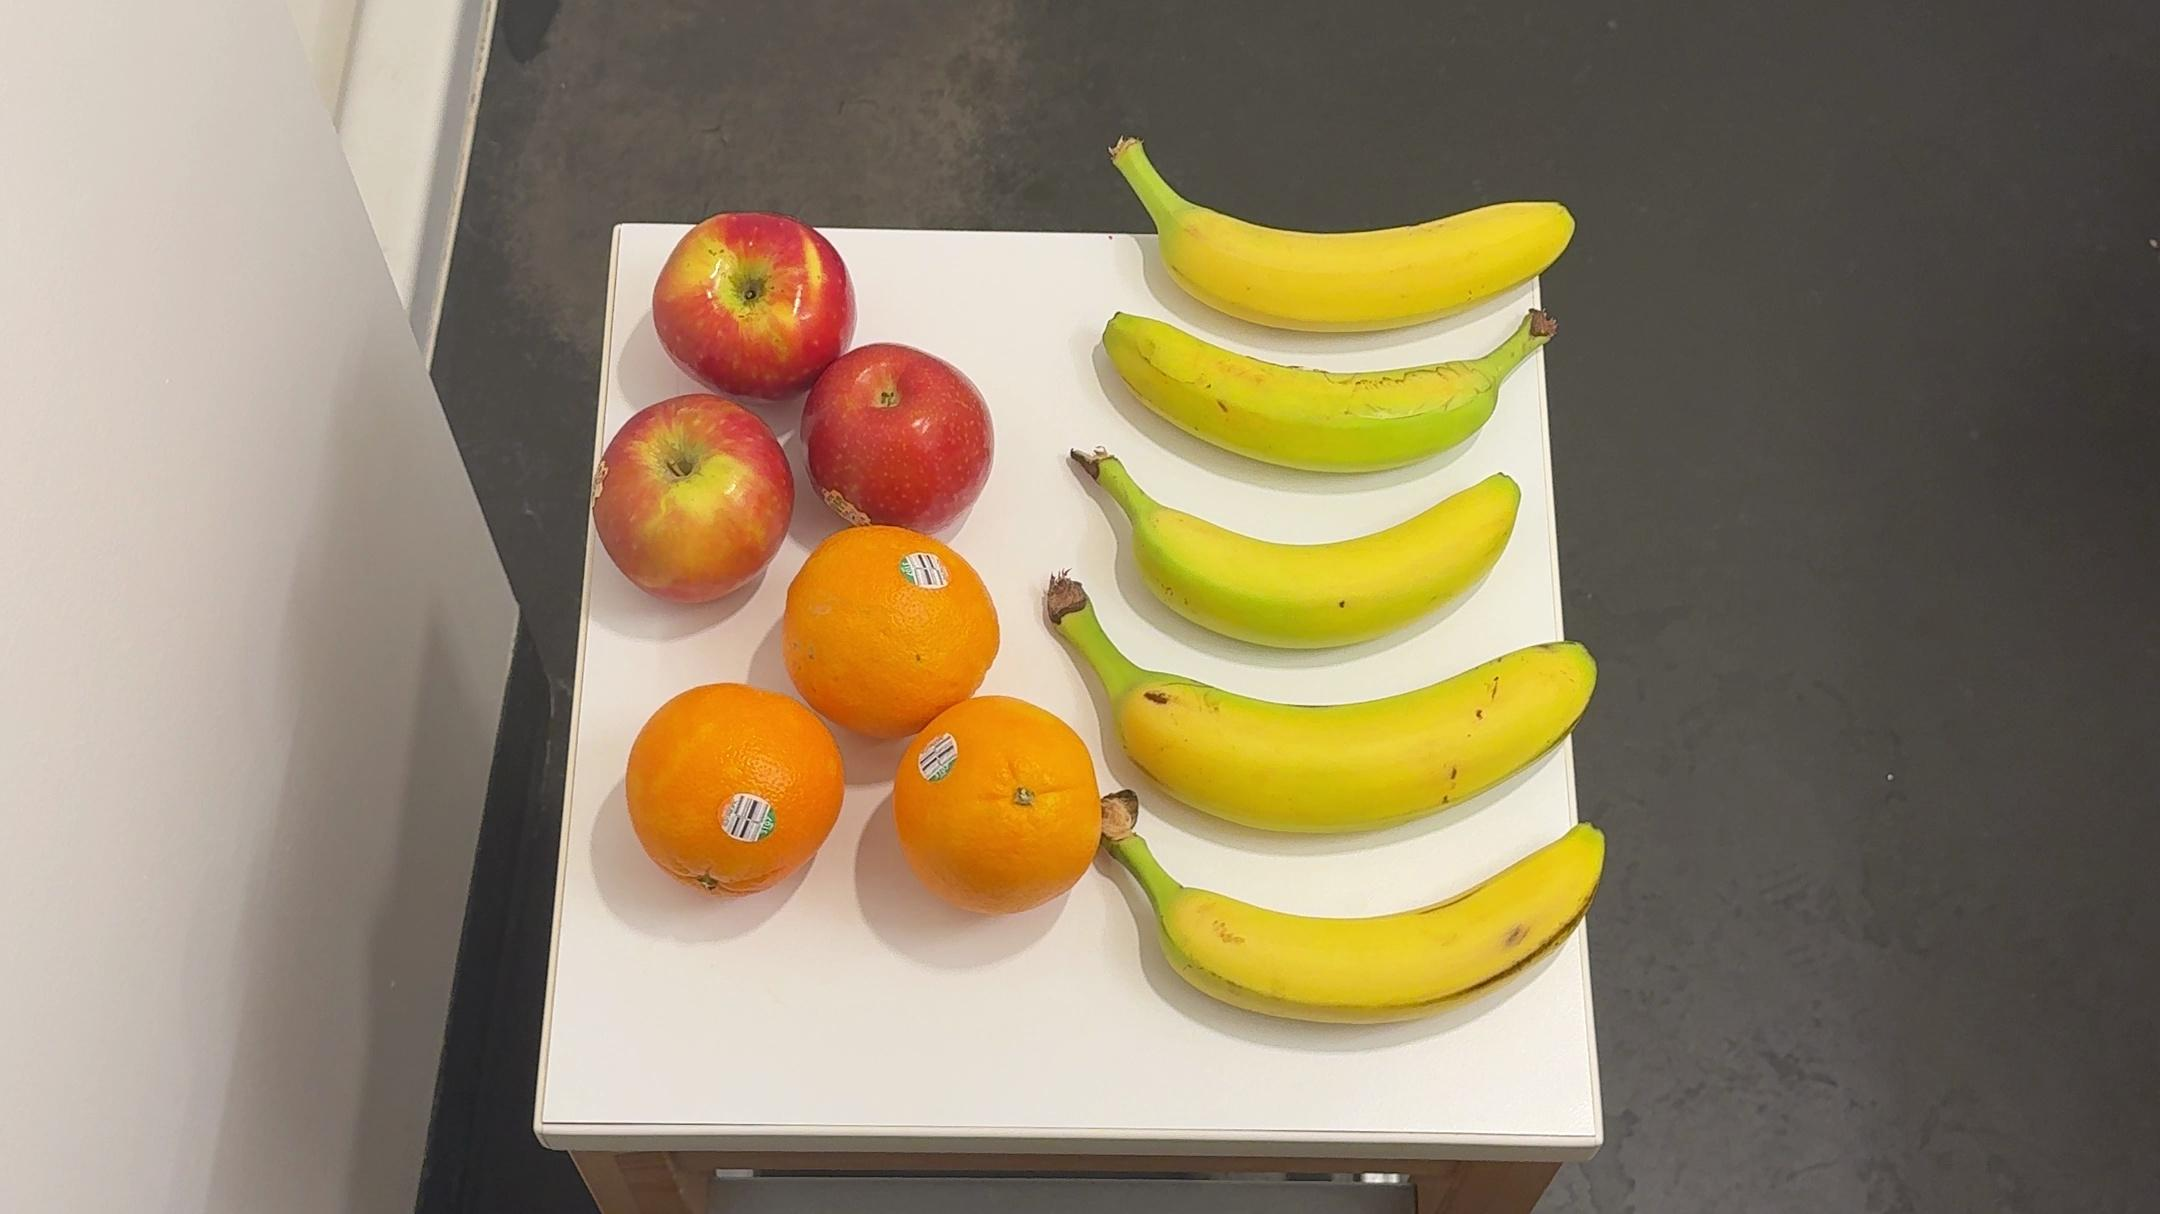apple: (642, 200, 857, 410), (596, 384, 789, 600), (789, 344, 1000, 533)
banana: (1043, 567, 1607, 839), (1067, 784, 1619, 1040), (1093, 119, 1596, 347), (1061, 433, 1541, 666), (1077, 298, 1578, 488)
orange: (777, 522, 1015, 745), (616, 680, 841, 911), (892, 686, 1113, 922)
